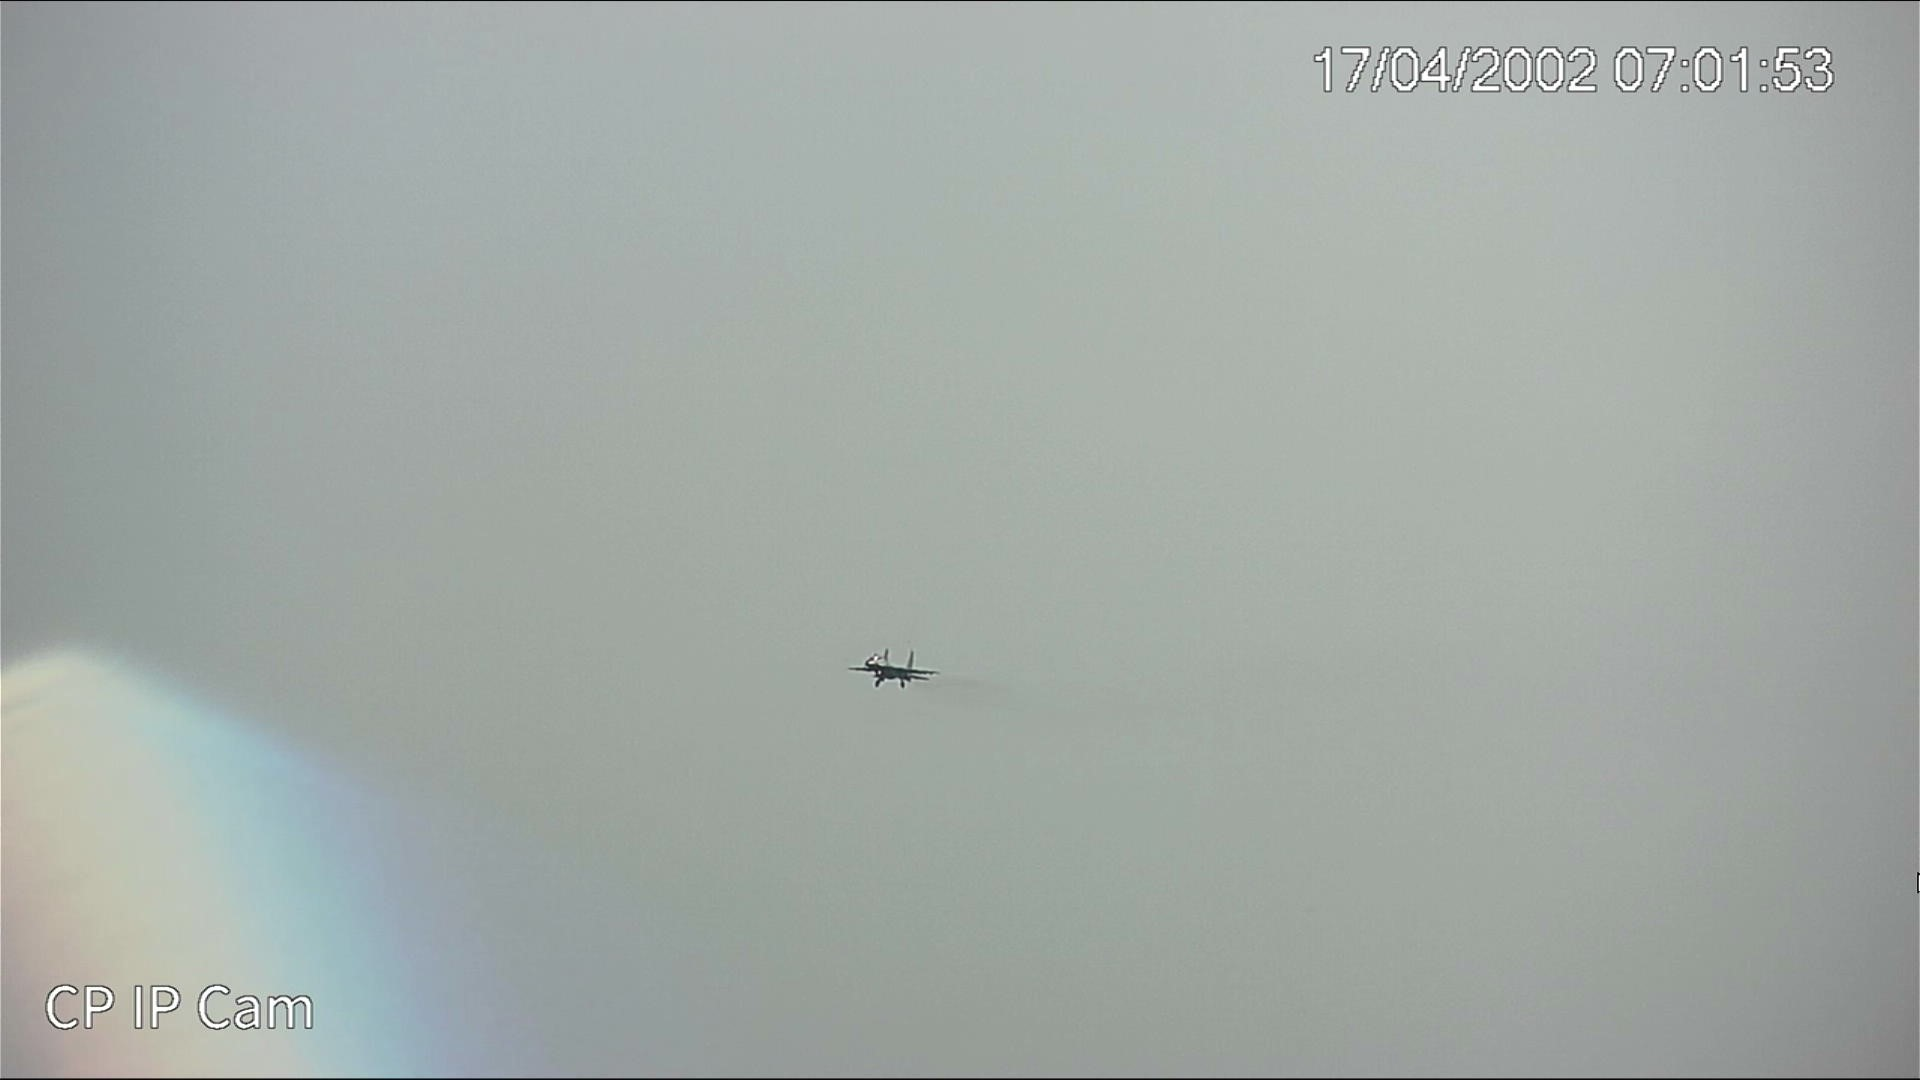SU_30: (847, 647, 939, 688)
